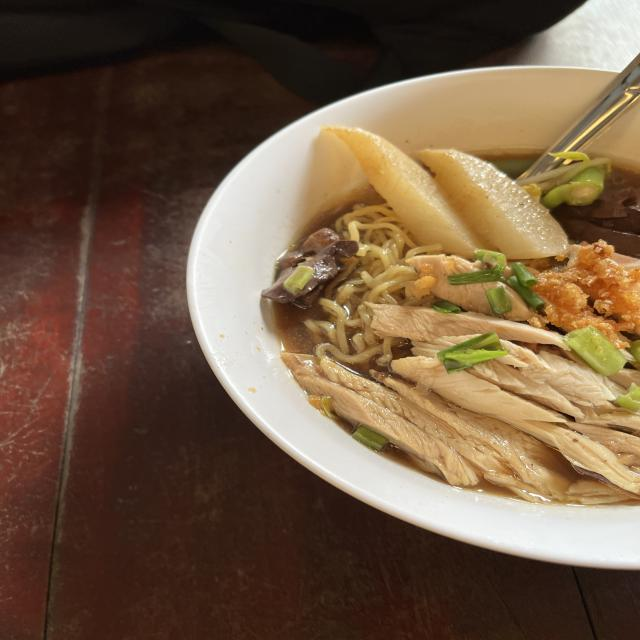boiled_chicken_blood_jelly: (567, 156, 640, 256)
chicken_shredded: (313, 257, 640, 483)
daikon_radish: (334, 118, 572, 257)
noodle: (257, 89, 640, 508)
